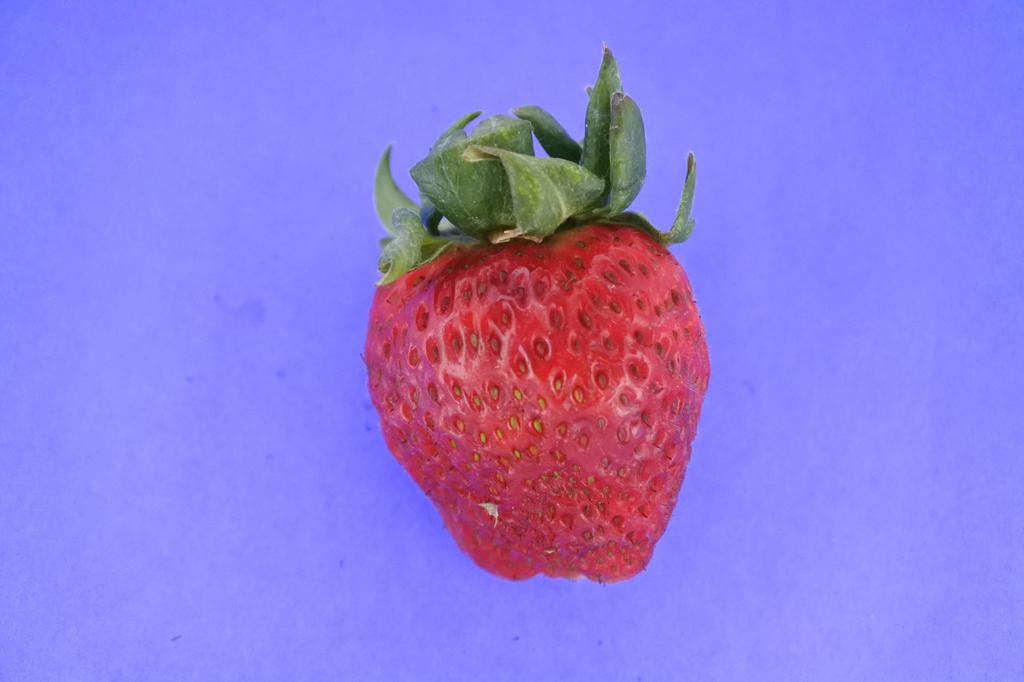red strawberry: (363, 47, 714, 587)
